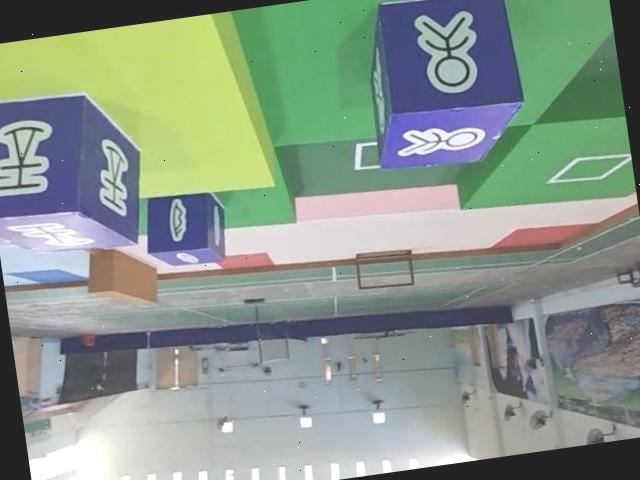R2 Real Blue: (352, 0, 527, 174), (0, 78, 149, 259), (136, 185, 231, 273)
